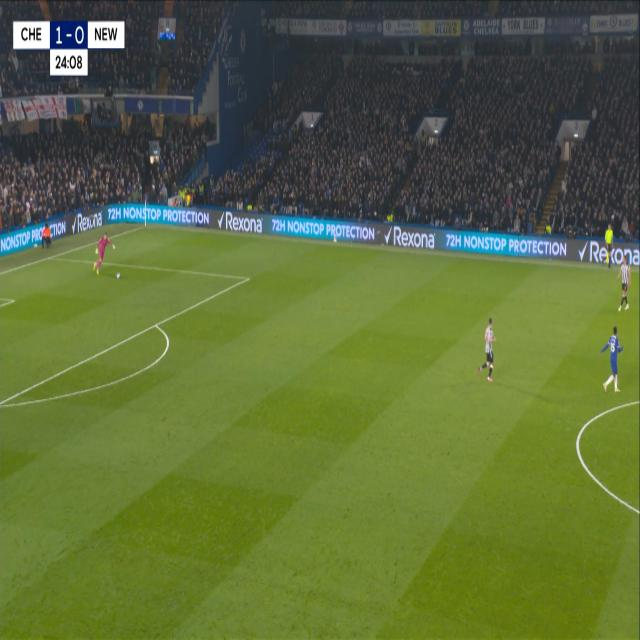Ball: (115, 270, 121, 280)
Chelsea: (597, 321, 626, 398)
New castle: (474, 310, 498, 386), (614, 252, 634, 316)
New castle keeper: (92, 229, 116, 277)
